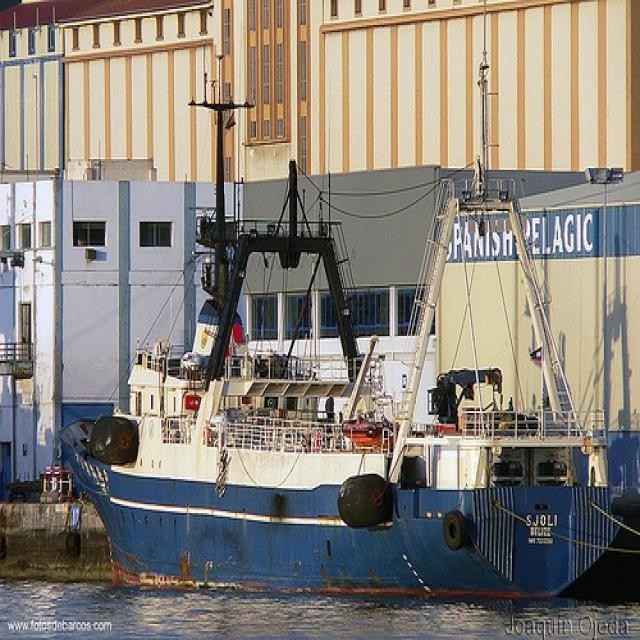boat: (59, 159, 623, 597)
